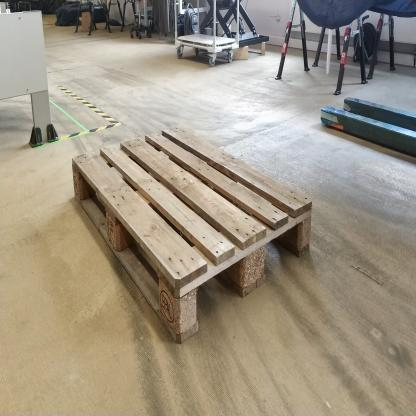BoxFace: (69, 122, 319, 356)
